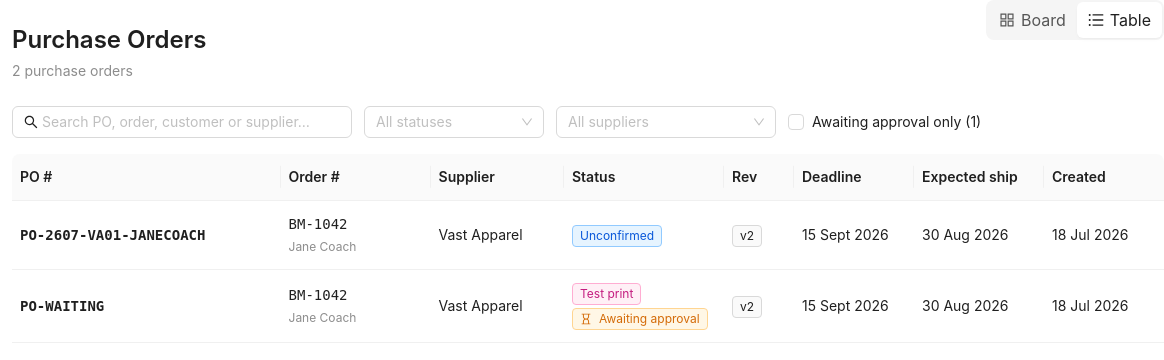
it: PurchaseOrdersView — awaiting approval › unticking brings the rest back
Check: the text "PO-2607-VA01-JANECOACH" is shown, box [20,227,205,243]
Click the checkbox labelled "Awaiting approval only (1)" at x=889, y=122, box [788,111,989,133]
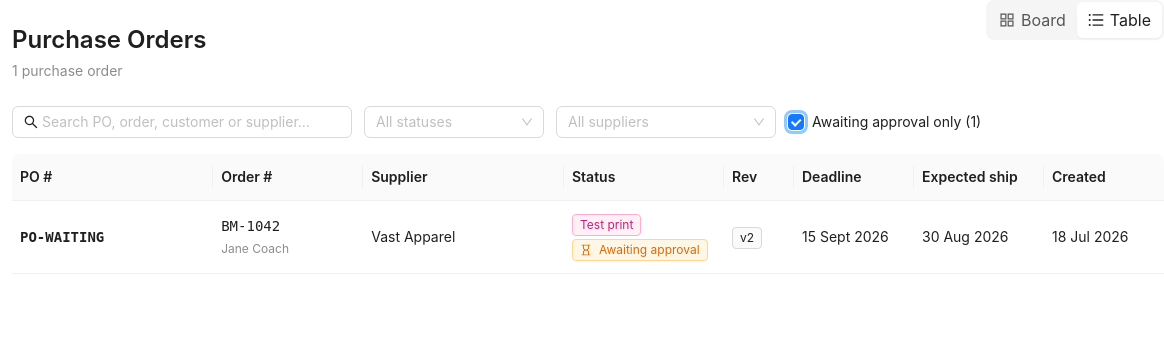
Click the checkbox labelled "Awaiting approval only (1)" at x=889, y=122, box [788,111,989,133]
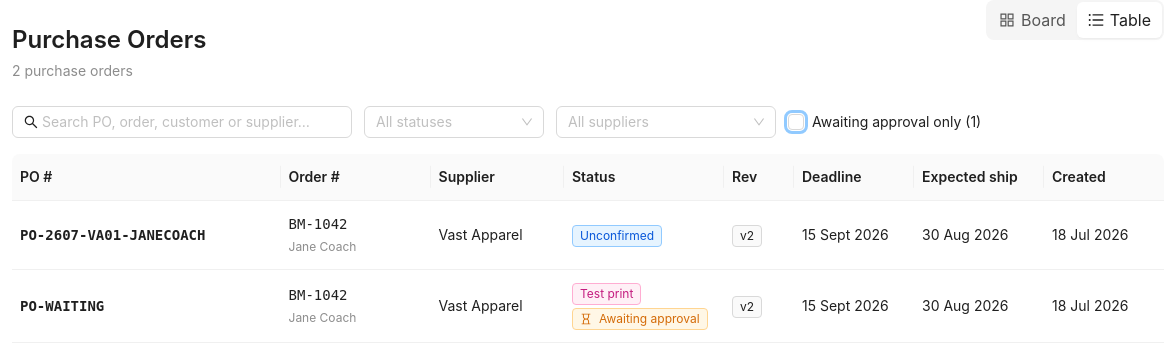
Check: the text "PO-2607-VA01-JANECOACH" is shown, box [20,227,205,243]
